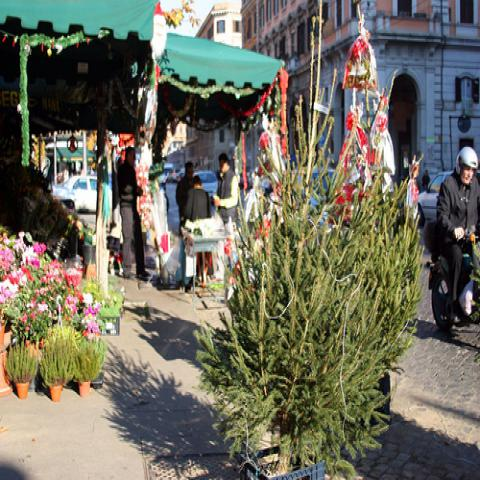car: (418, 170, 455, 228), (52, 175, 98, 212), (192, 170, 218, 198), (166, 168, 182, 184)
motorcycle: (425, 221, 479, 330)
